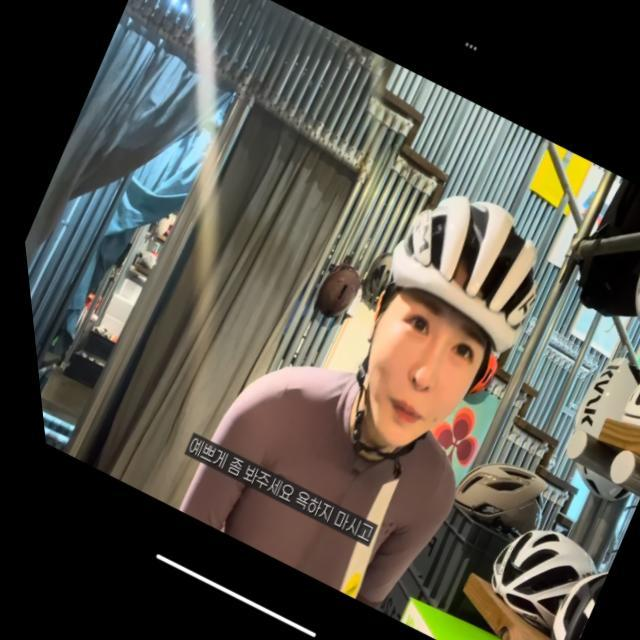Helmet: (329, 174, 545, 482)
